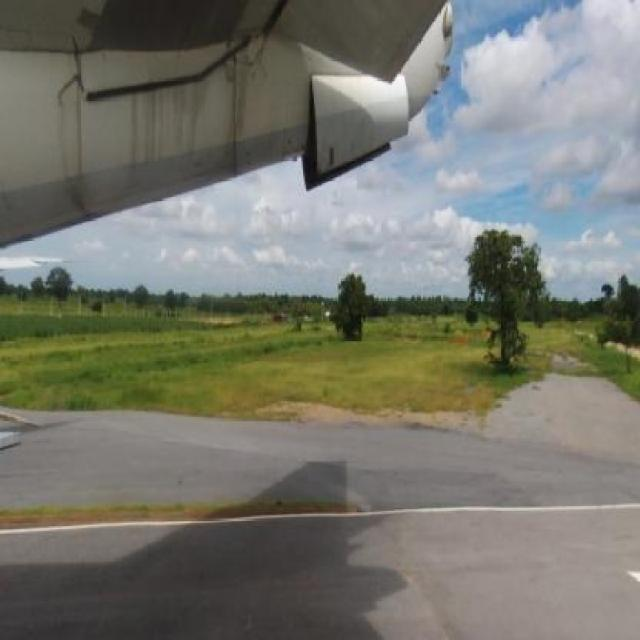Rust: (121, 72, 219, 177), (43, 60, 97, 217), (224, 31, 273, 177)
